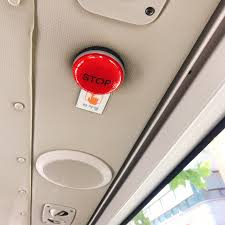bell: (69, 46, 129, 97)
